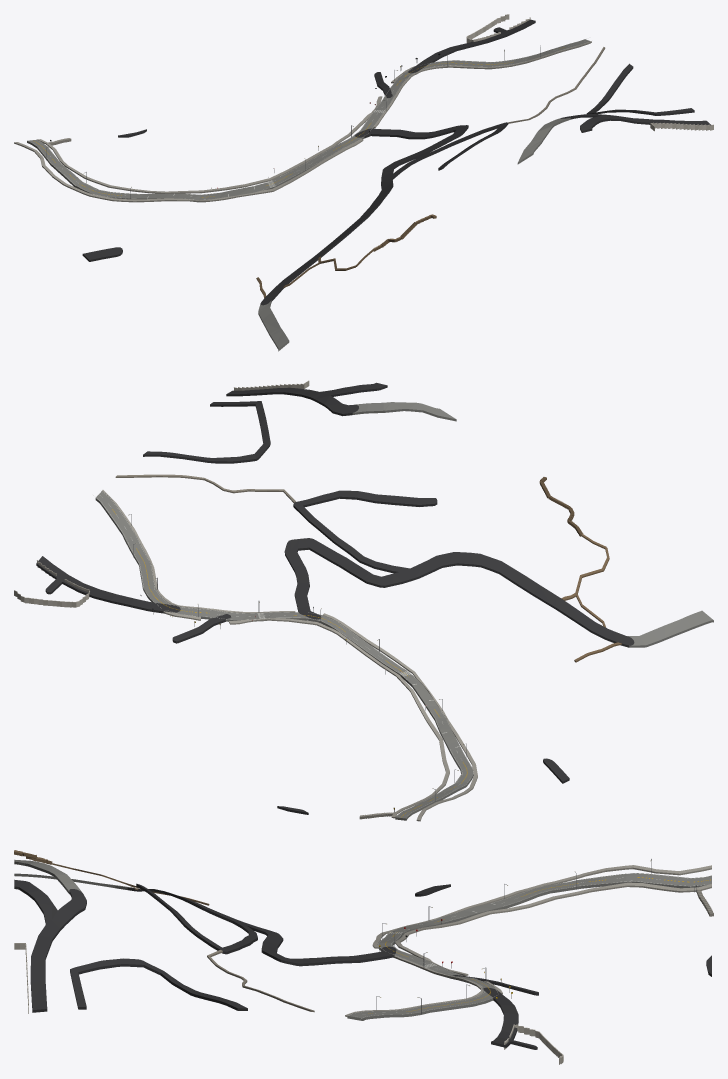
3 views of the same model, one above another, from view 1: azimuth 30°, elevation 25°; view 2: azimuth 150°, elevation 25°; view 3: azimuth 270°, elevation 25° (orthographic). The views are drawn at different scales.
Bounding box in the file's own units: 296 × 101 × 292.
